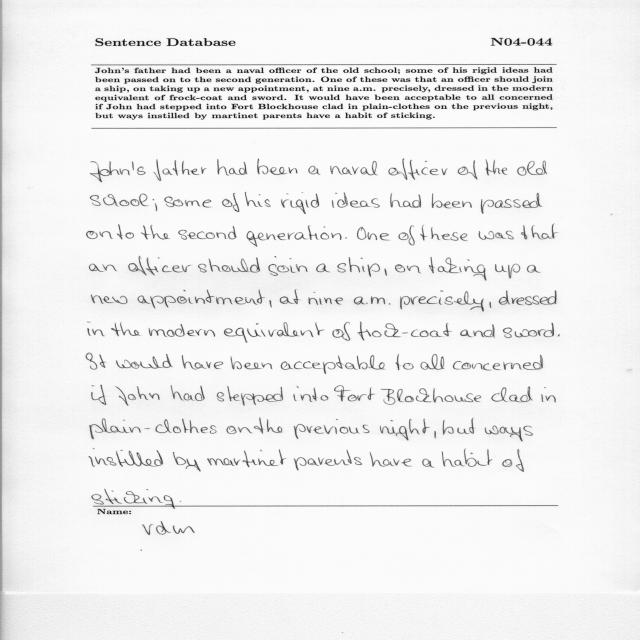word: (90, 419, 217, 440), (138, 290, 265, 309), (224, 322, 325, 343), (246, 225, 342, 247), (281, 355, 385, 374), (400, 291, 484, 312), (357, 322, 452, 340), (381, 388, 481, 405), (294, 419, 370, 439), (92, 489, 181, 506), (294, 450, 362, 471), (89, 448, 163, 467), (429, 257, 486, 281), (453, 355, 543, 370), (207, 450, 286, 467), (217, 386, 283, 406), (481, 193, 542, 214), (389, 159, 448, 180), (128, 256, 191, 275), (90, 161, 146, 182), (154, 159, 207, 181), (380, 419, 430, 441), (198, 258, 260, 273), (442, 449, 492, 467), (116, 386, 160, 406), (499, 290, 557, 305), (337, 257, 380, 277), (149, 324, 215, 337), (116, 354, 173, 369), (281, 192, 319, 214), (178, 226, 237, 240), (269, 256, 308, 276), (332, 192, 380, 208), (420, 225, 468, 241), (485, 426, 533, 442), (90, 194, 149, 207), (503, 323, 554, 338), (491, 387, 533, 403), (331, 161, 378, 175), (257, 159, 298, 175), (334, 386, 375, 402), (182, 355, 223, 370), (432, 193, 472, 208), (370, 452, 412, 466), (442, 418, 475, 435), (294, 386, 329, 402), (173, 452, 201, 472), (521, 224, 558, 239), (231, 357, 273, 370), (171, 385, 205, 401), (165, 197, 212, 208), (217, 159, 247, 176), (502, 449, 524, 472), (460, 324, 495, 338), (390, 193, 421, 208), (254, 418, 283, 434), (308, 292, 343, 305), (517, 161, 547, 176), (357, 227, 390, 240), (141, 225, 170, 239), (245, 192, 271, 207), (111, 323, 141, 336), (421, 354, 445, 370), (458, 160, 477, 180), (495, 264, 520, 279), (486, 160, 508, 176), (333, 322, 351, 341), (398, 226, 415, 246), (86, 353, 106, 370), (354, 296, 391, 305), (478, 231, 514, 240), (92, 295, 128, 304), (222, 193, 239, 212), (395, 354, 414, 370), (92, 385, 107, 405), (280, 290, 300, 304), (117, 225, 134, 240), (88, 322, 105, 336), (395, 265, 421, 274), (541, 387, 556, 402), (90, 264, 118, 272), (86, 231, 113, 239), (227, 426, 253, 434), (316, 264, 330, 273), (308, 166, 321, 175), (422, 459, 434, 468), (527, 265, 540, 273), (153, 199, 157, 211), (385, 269, 388, 276), (269, 300, 272, 307), (434, 431, 436, 438), (489, 302, 491, 308), (558, 334, 560, 337), (345, 237, 347, 239), (180, 501, 182, 502)
